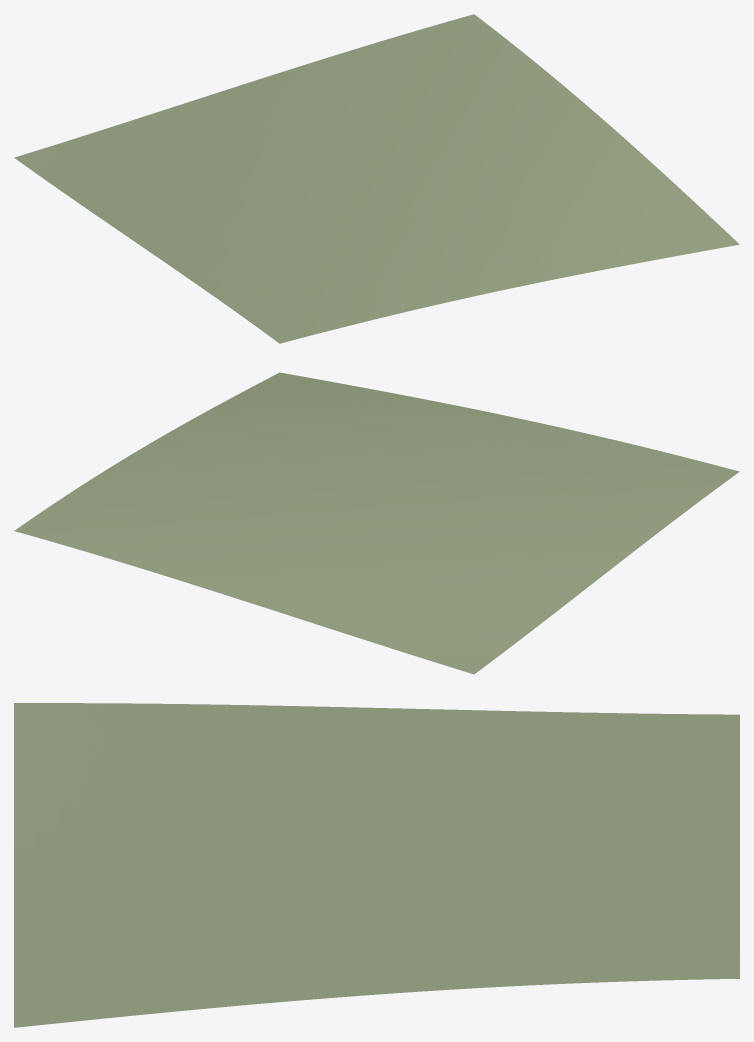
The model's file is alpine-1-12.glb.
3 views of the same model, one above another, from view 1: azimuth 30°, elevation 25°; view 2: azimuth 150°, elevation 25°; view 3: azimuth 270°, elevation 25° (orthographic). The views are drawn at different scales.
Visible parts, largest first — view 1: alpine-1-12; view 2: alpine-1-12; view 3: alpine-1-12.
Part boxes in pixels (x1=…): alpine-1-12: x1=14, y1=14, x2=739, y2=343; alpine-1-12: x1=14, y1=372, x2=739, y2=674; alpine-1-12: x1=14, y1=703, x2=739, y2=1027.
Size of the model in its own units: 256 by 19.1 by 256.
